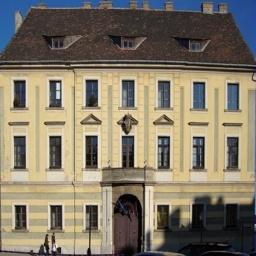building: (0, 3, 256, 233)
